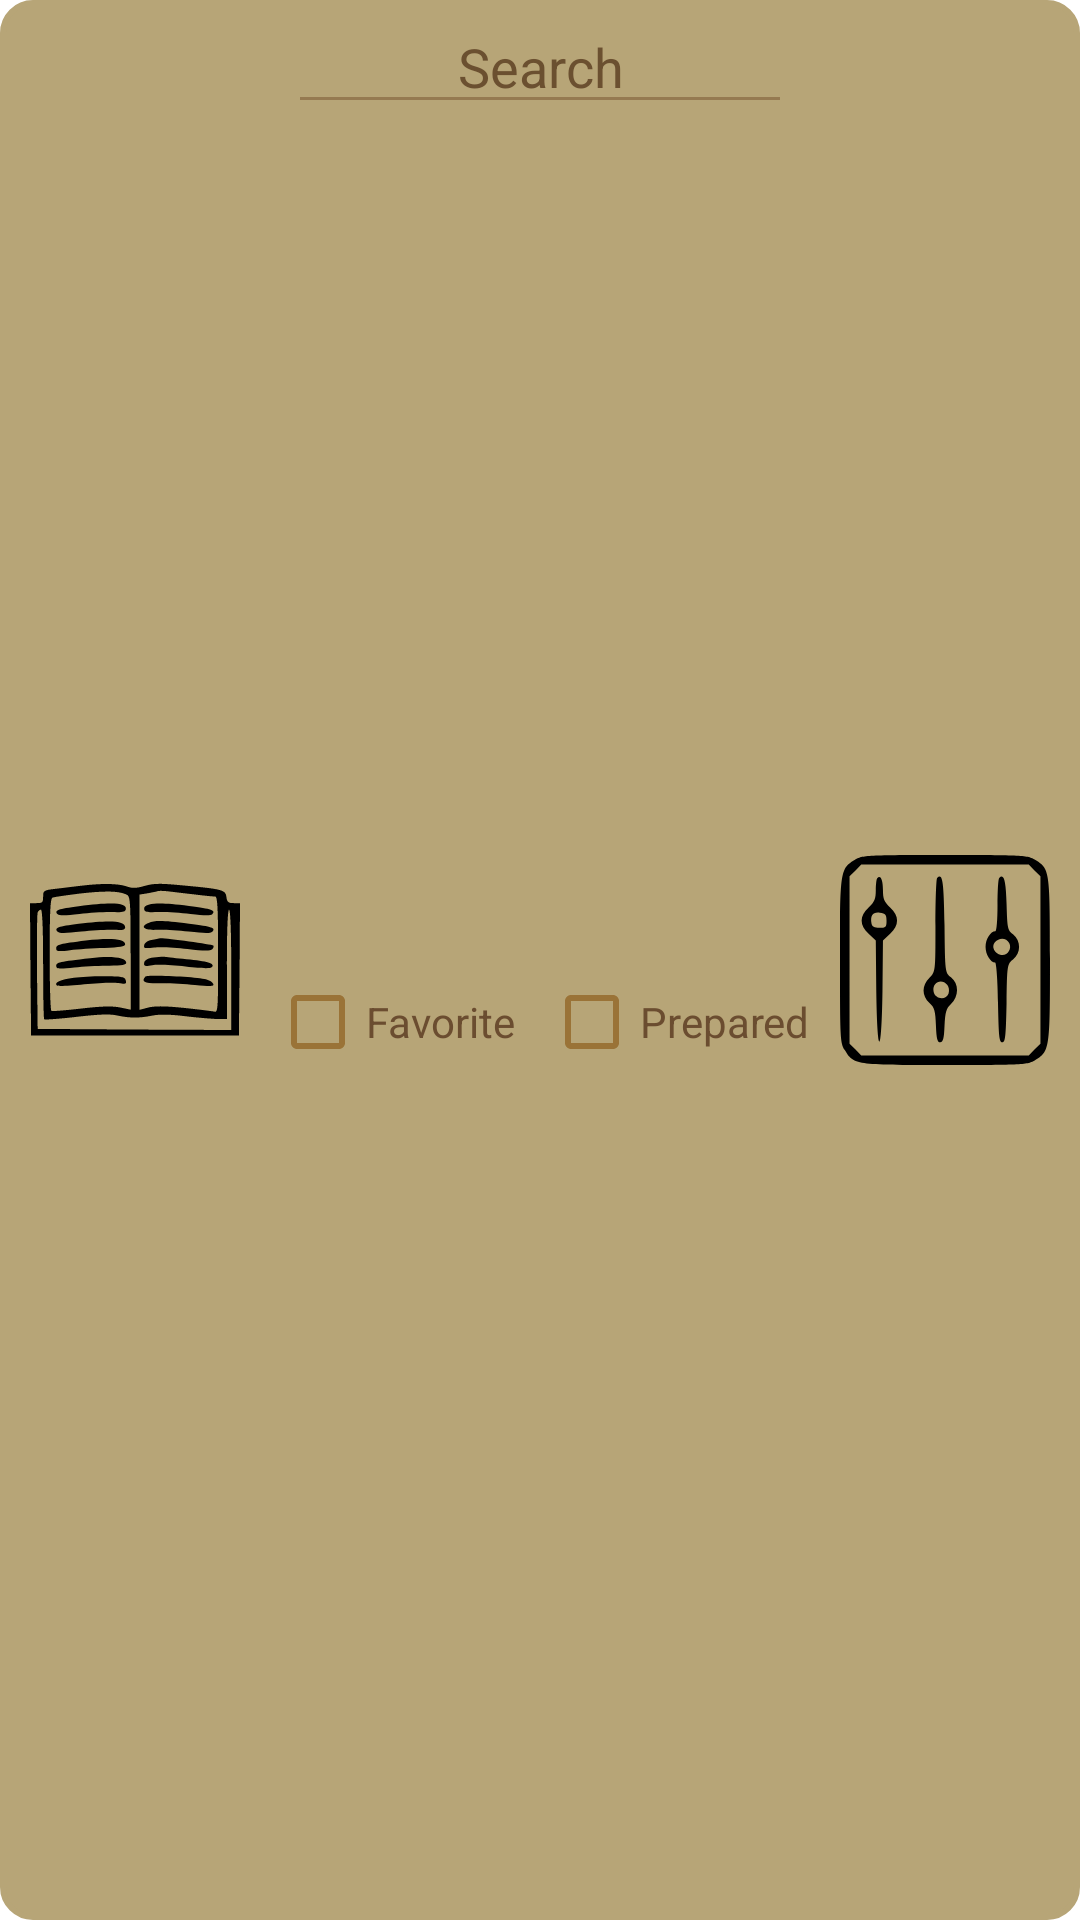

Where icons sit on this 1080px×1920px app screen, as rect(x1, y1, x2, y2):
book: rect(30, 883, 240, 1036)
filter: rect(840, 855, 1050, 1065)
